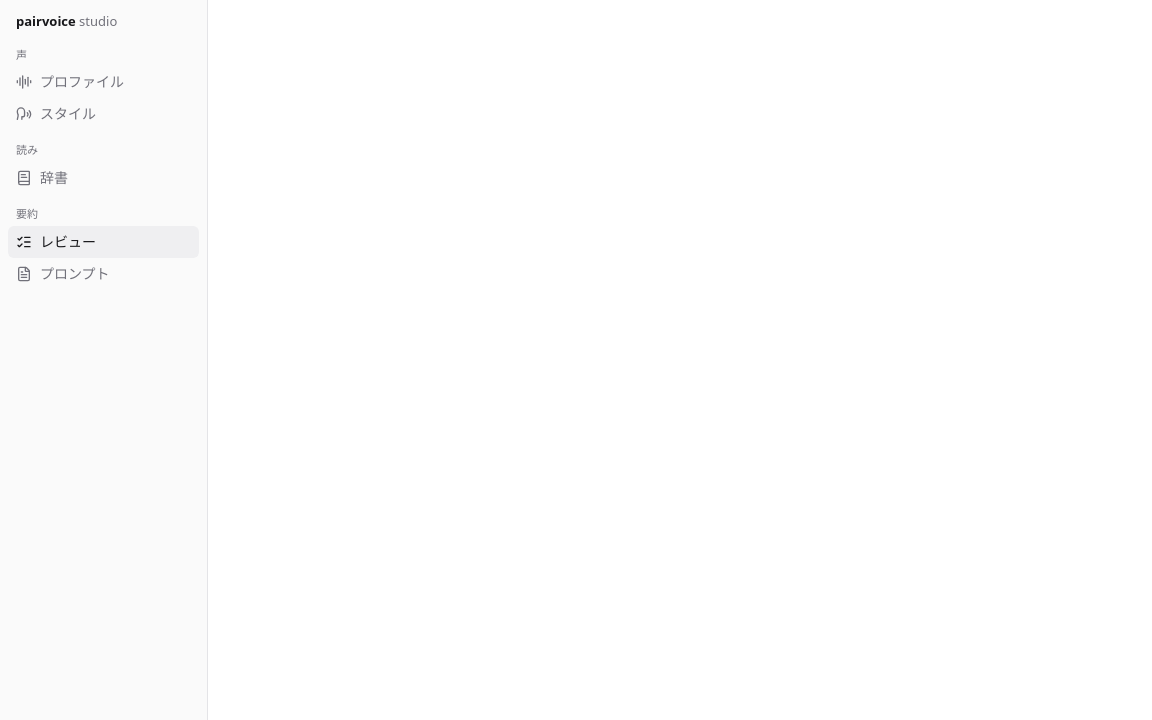
Test: 一致しなければそう出す
Press k
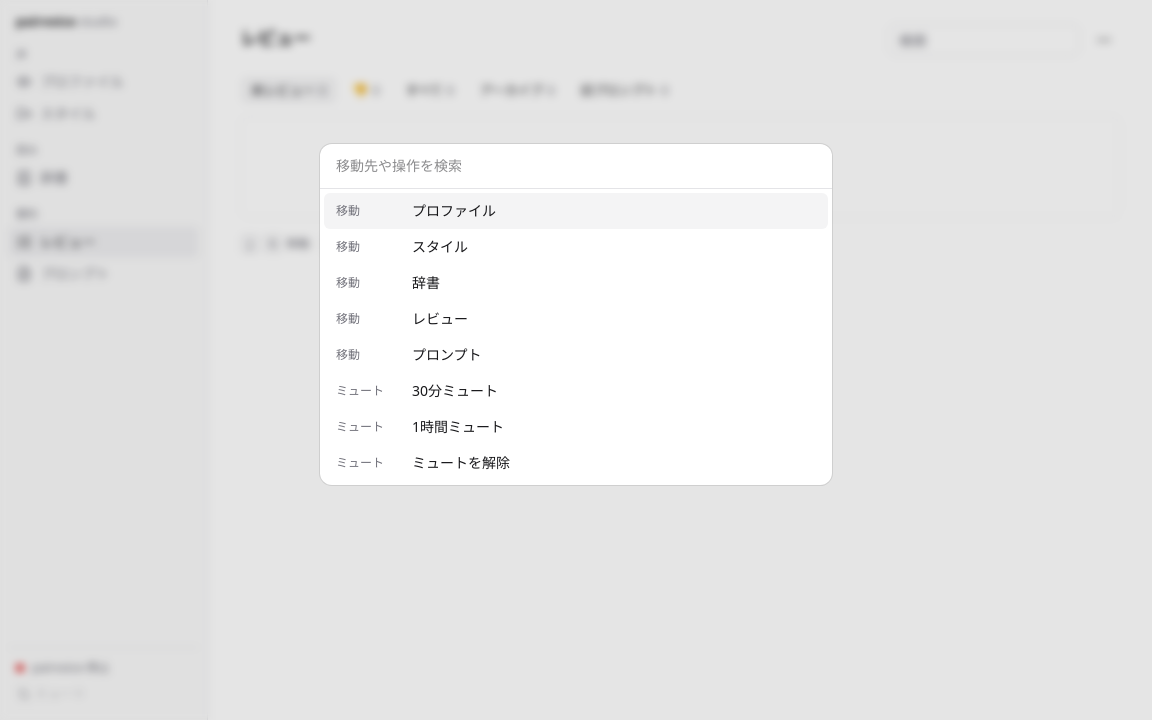
Type "zzz" into the dropdown named "コマンドを検索" at (576, 166), box left=320, top=144, right=832, bottom=189
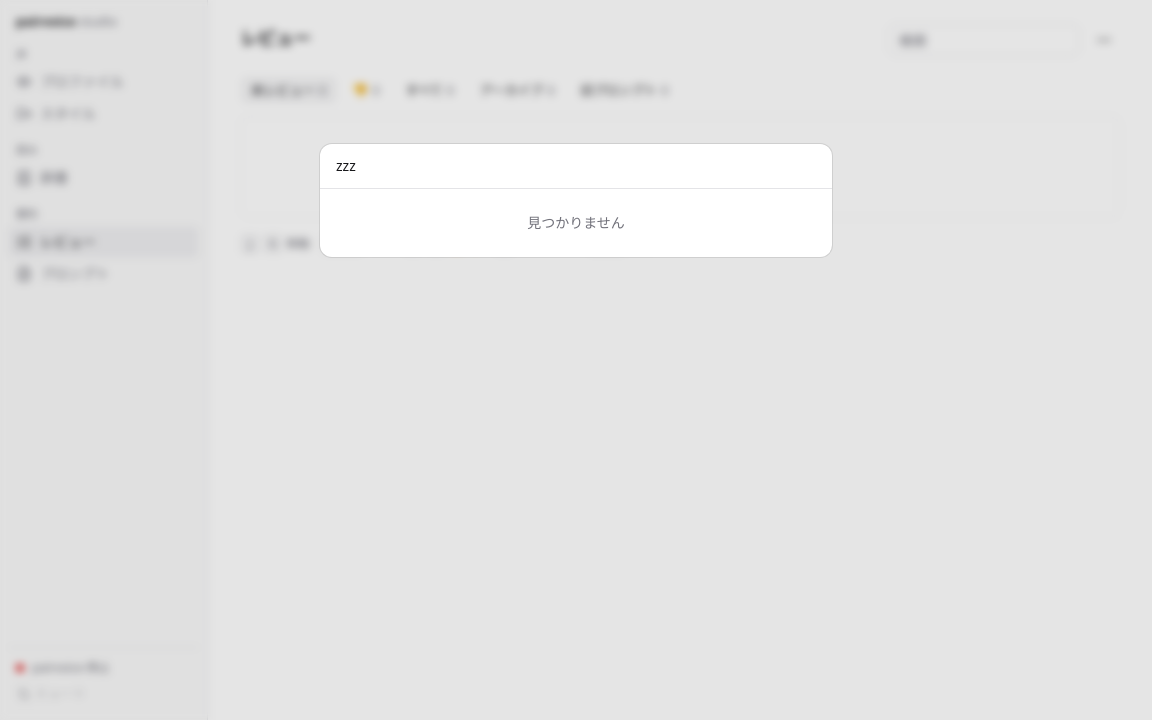
Result: the text "見つかりません" is shown at left=527, top=213, right=625, bottom=232
